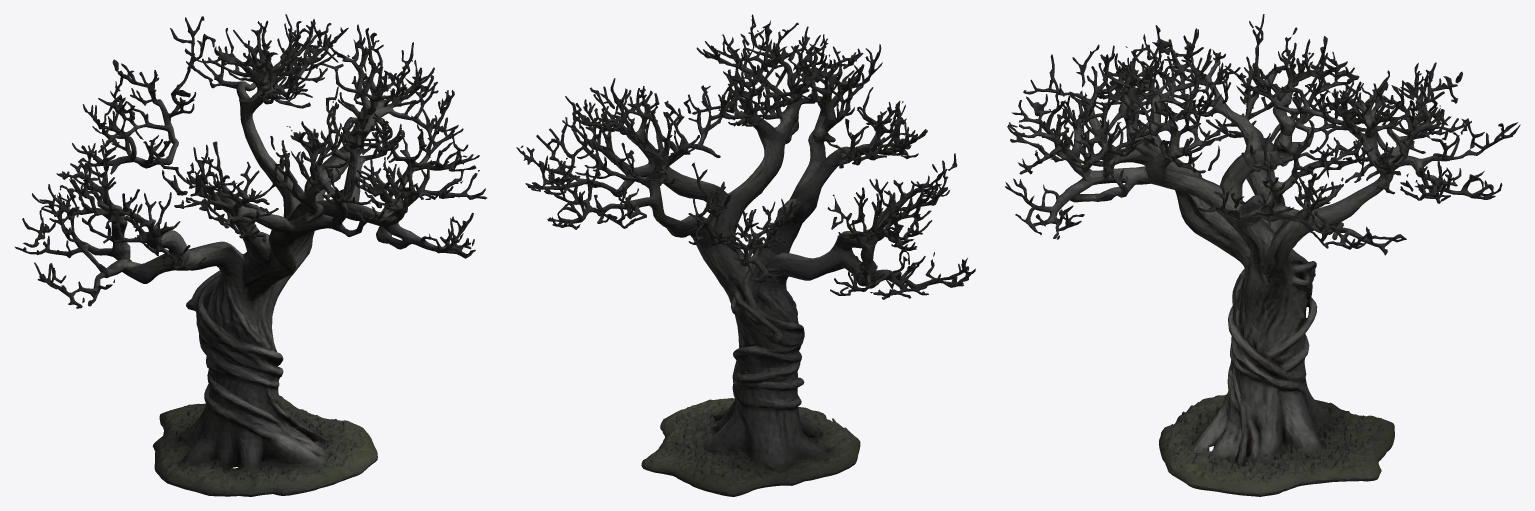
Rendered from bog_dead_tree_01.glb.
3 views of the same model, side by side, from view 1: azimuth 30°, elevation 25°; view 2: azimuth 150°, elevation 25°; view 3: azimuth 270°, elevation 25° (orthographic). The views are drawn at different scales.
Parts seen in each view (by area): view 1: geometry_0; view 2: geometry_0; view 3: geometry_0.
Boxes of the visible parts, <box> form: geometry_0: <box>15,14,487,496</box>; geometry_0: <box>516,14,975,496</box>; geometry_0: <box>1005,14,1520,496</box>.
Bounding box in the file's own units: 1 × 0.8578 × 0.9936.
Materials: 1 (1 with a texture image).
